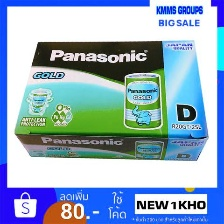book: (13, 35, 213, 166)
